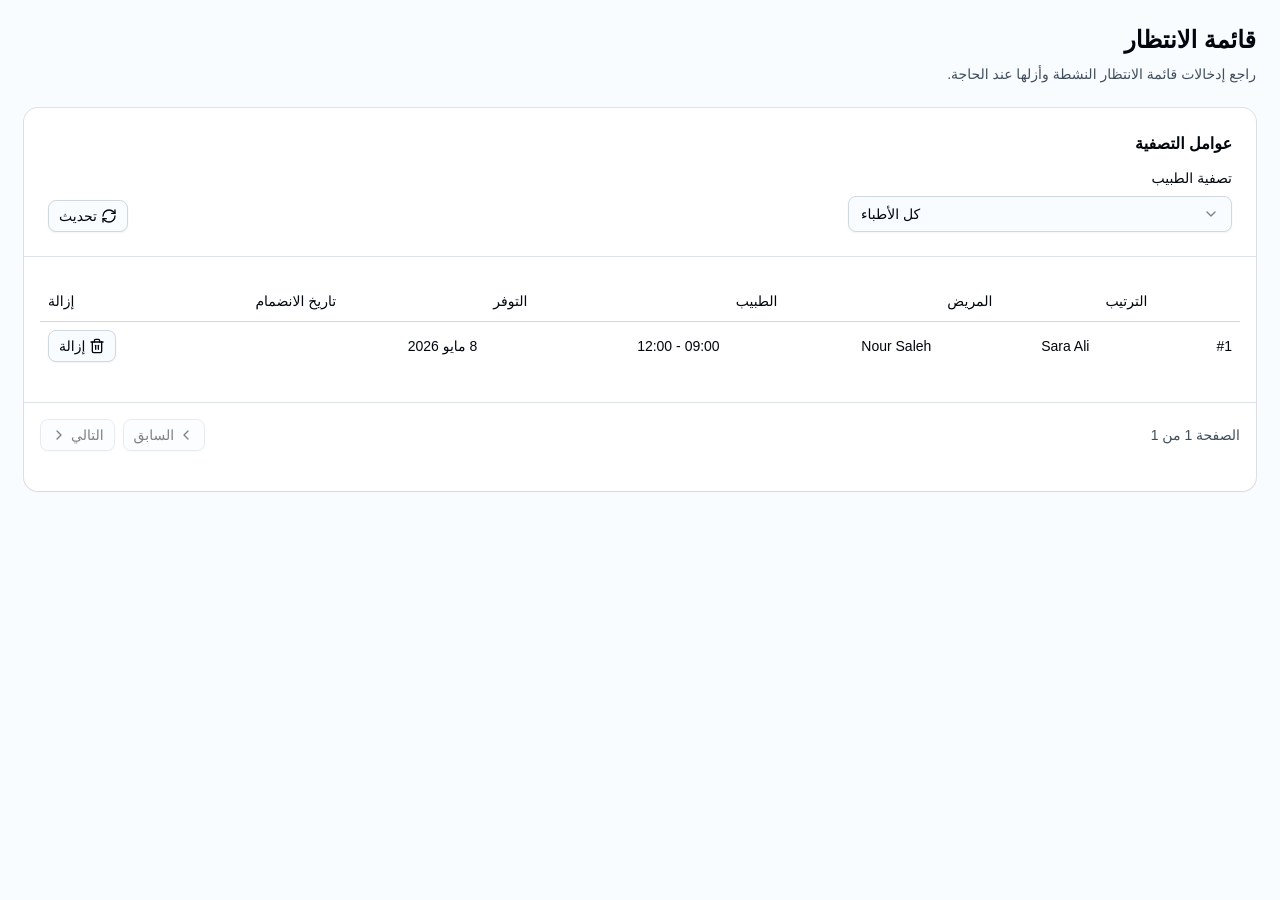
Scenario: StaffWaitlistSection › shows Arabic RTL labels and inline remove errors
Expected: the heading "قائمة الانتظار" is shown, [1124, 26, 1256, 53]
Click the button with test id "remove-waitlist-entry-wait-1" at coordinates (82, 346), box [48, 330, 116, 362]
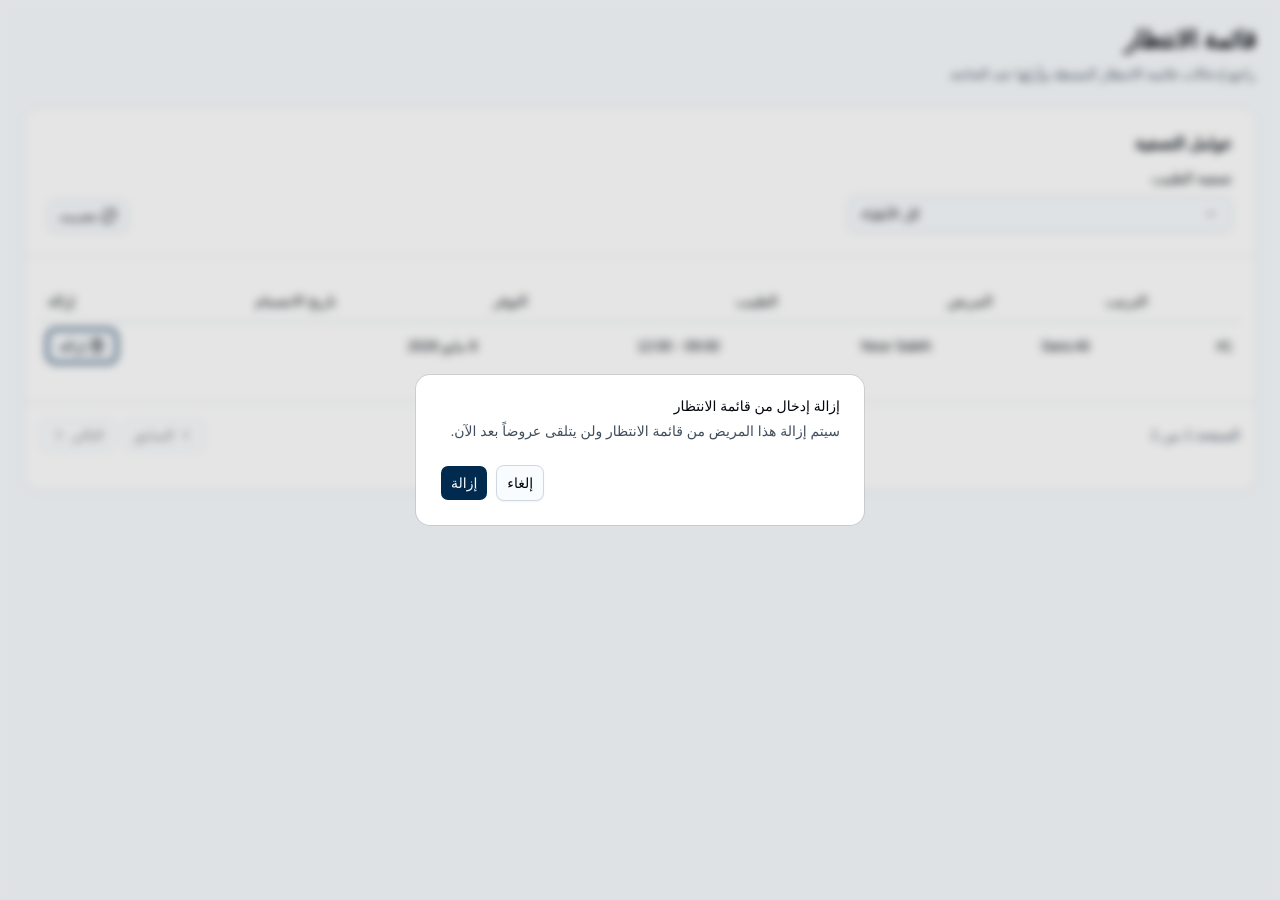
Click the button "إزالة" at coordinates (464, 483), box [440, 465, 488, 501]
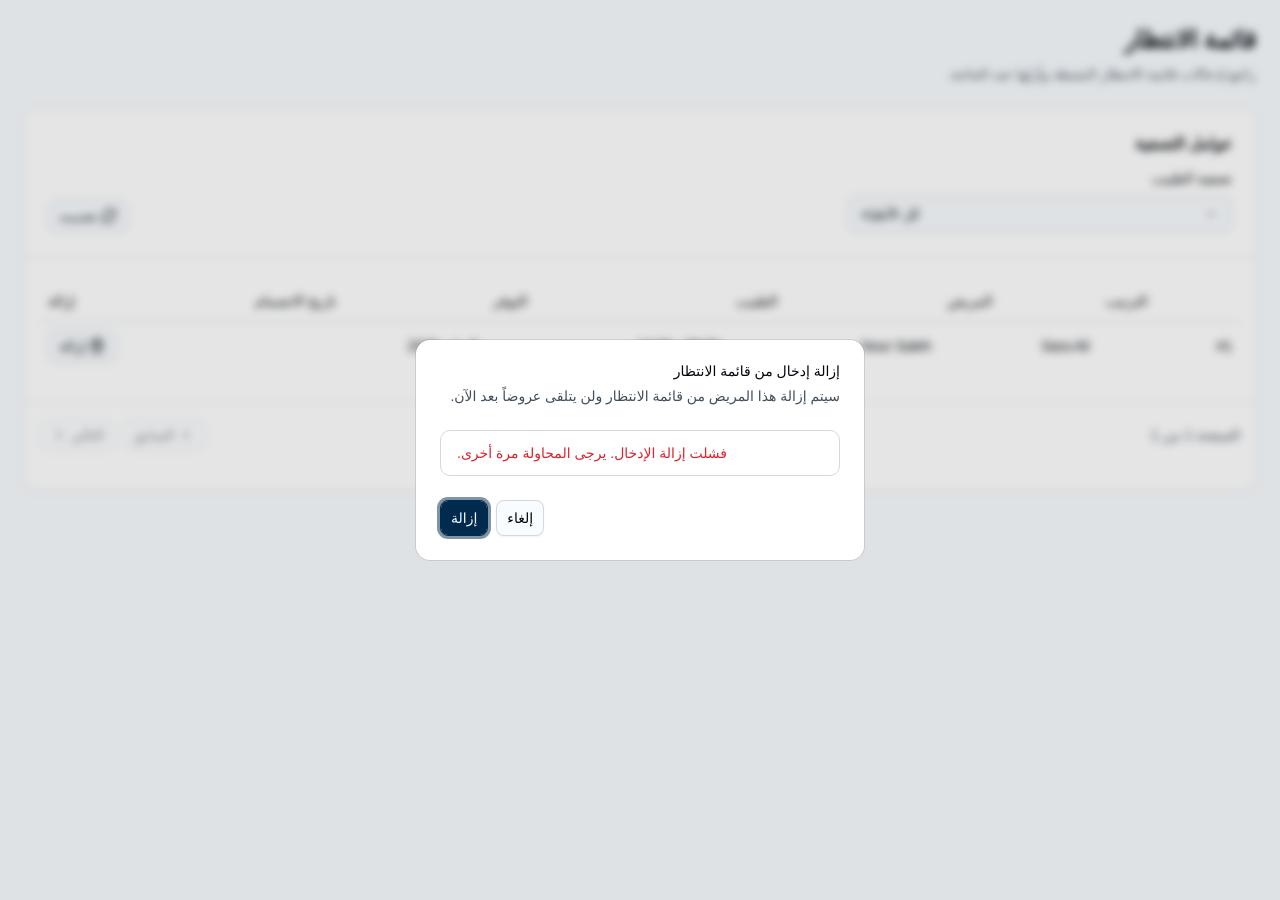
Expected: the text "فشلت إزالة الإدخال. يرجى المحاولة مرة أخرى." is shown, [457, 445, 727, 461]
